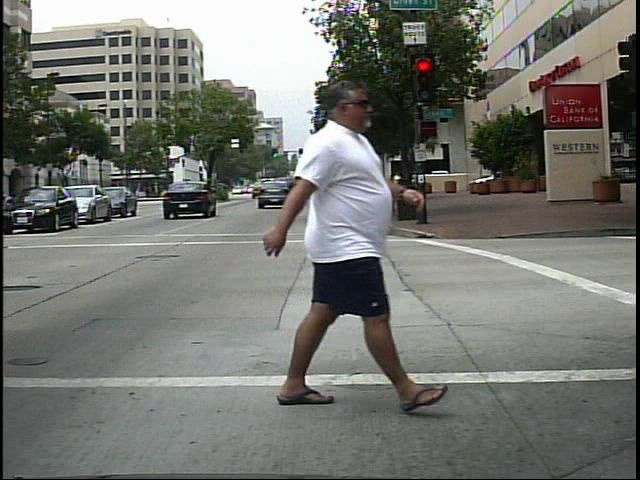person: (252, 73, 423, 419)
